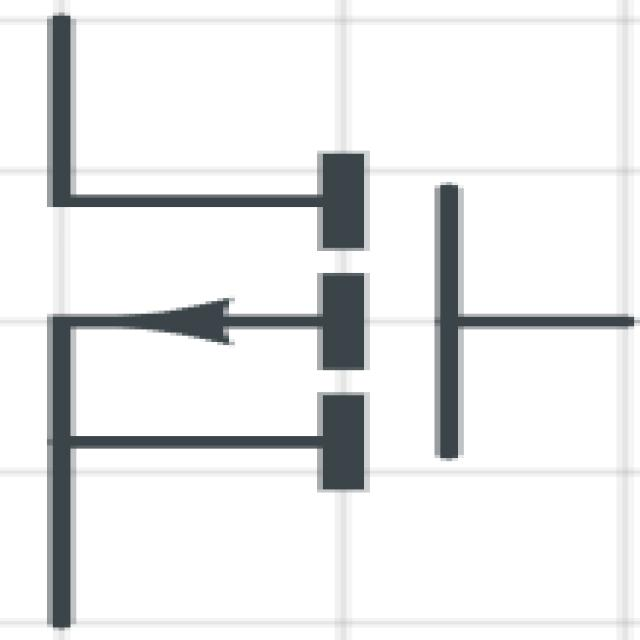nmos: (8, 2, 640, 630)
